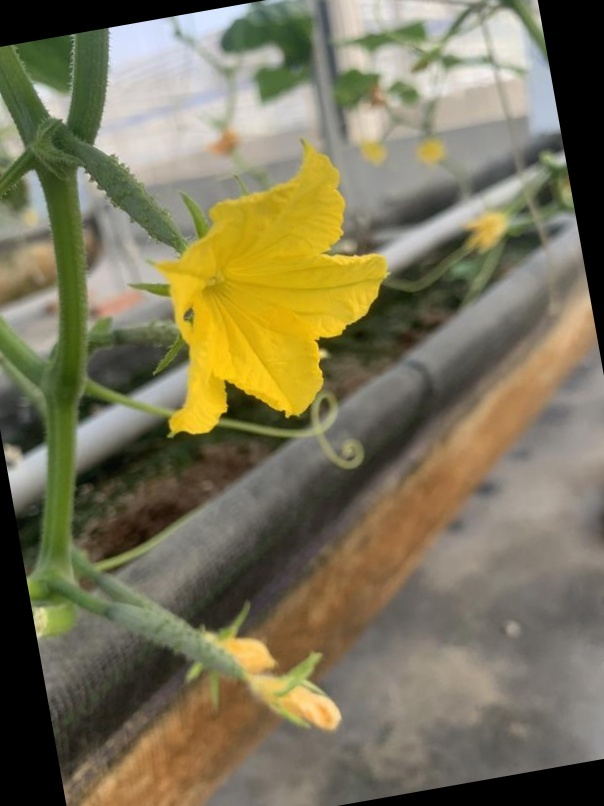flowering: (68, 100, 400, 449)
